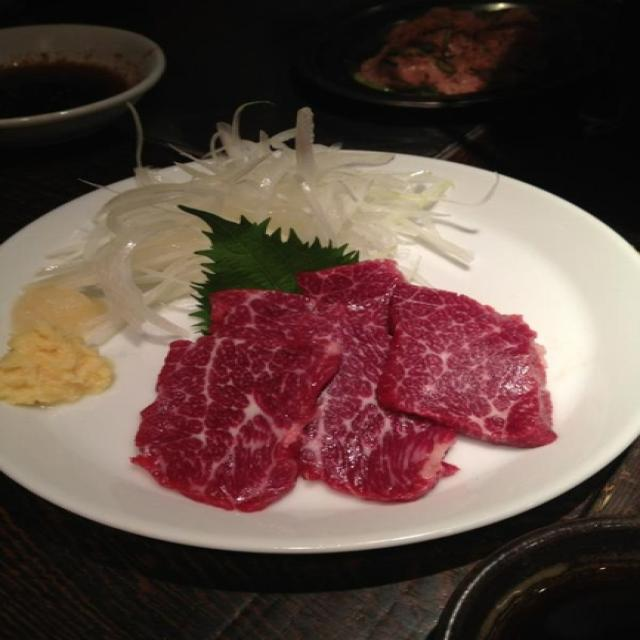刺身生食: (12, 138, 625, 544)
